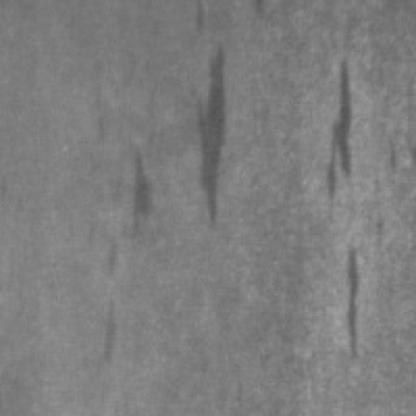inclusion: (175, 35, 237, 233), (85, 141, 156, 300), (310, 40, 362, 220), (318, 241, 370, 366), (85, 293, 123, 373)
